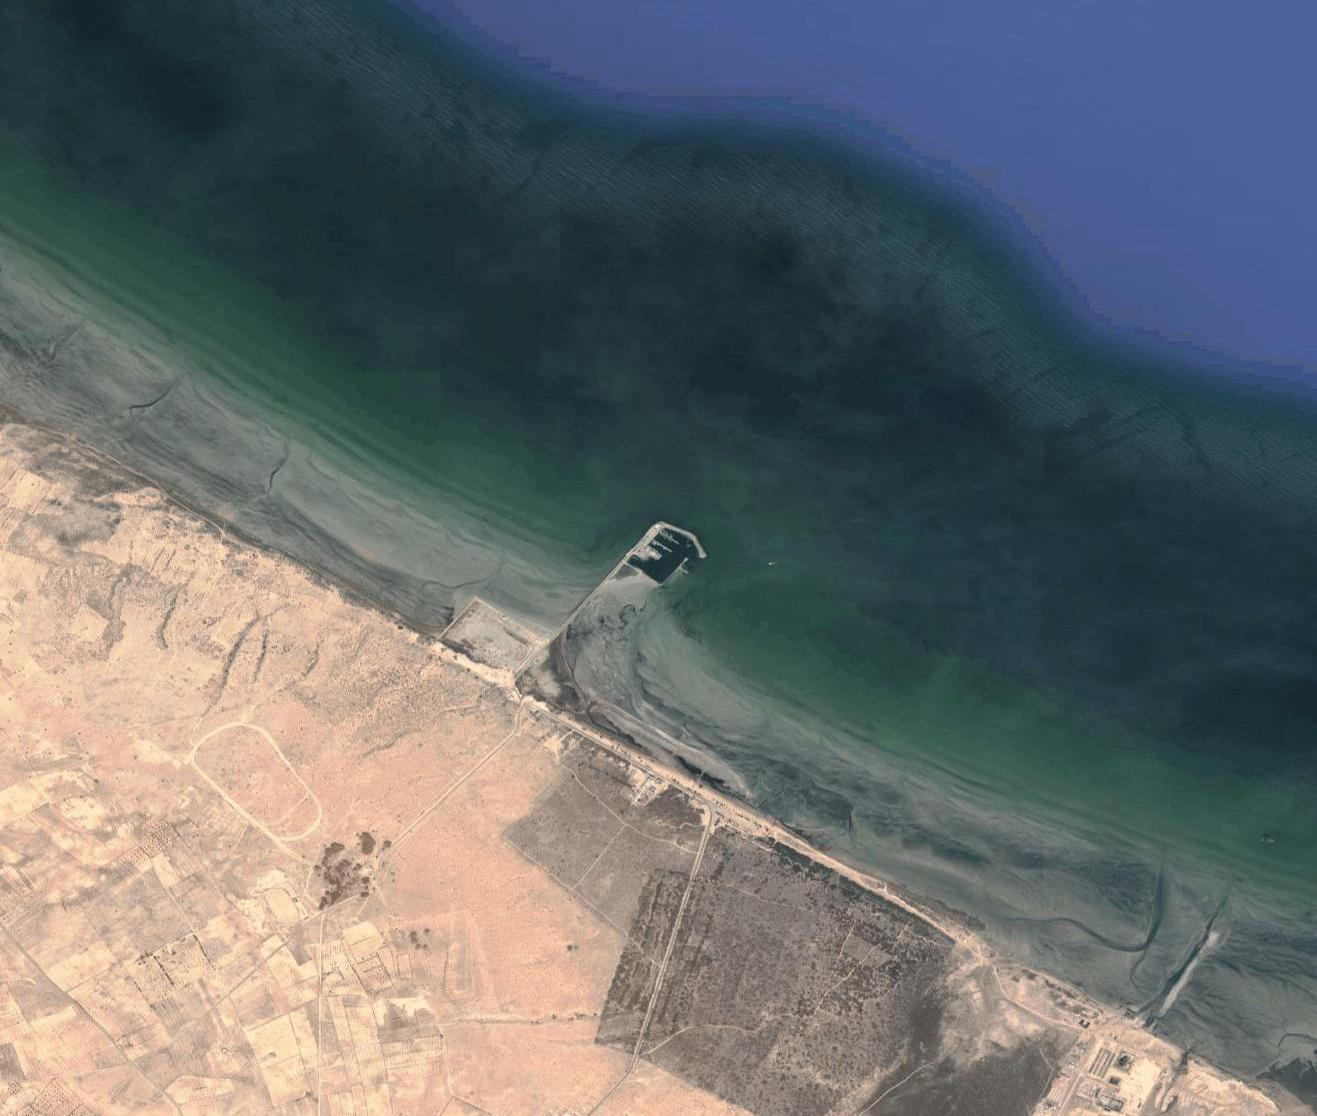harbor: (618, 514, 708, 591)
